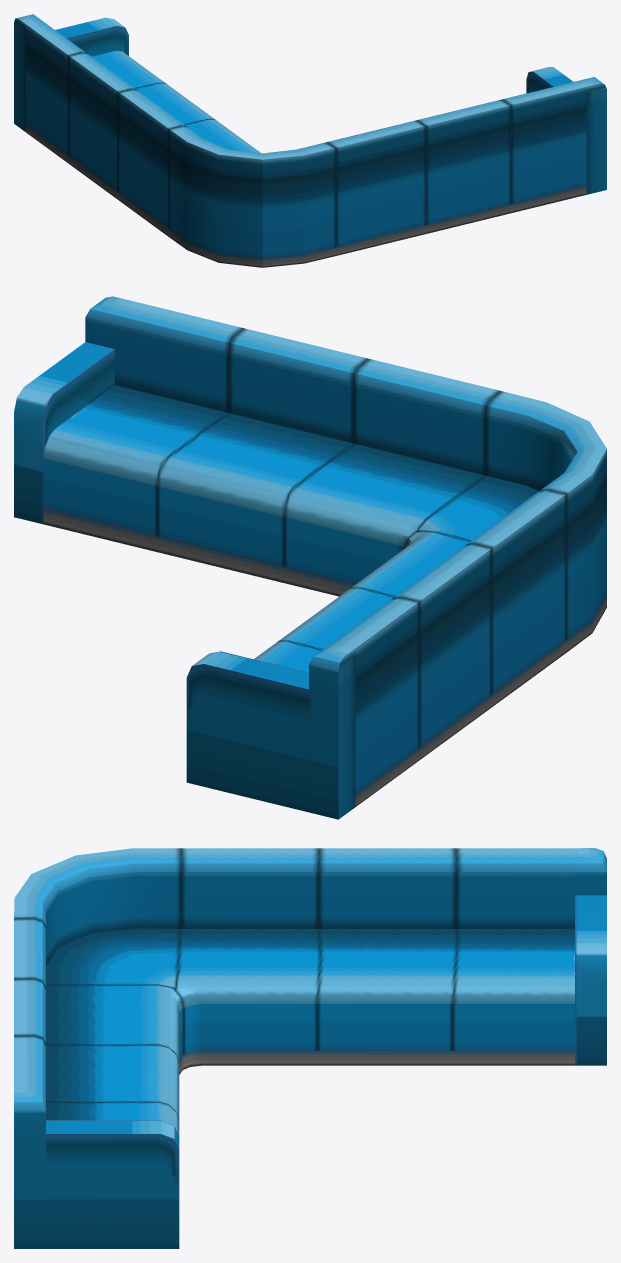
The model's file is Couch.obj.
3 renders of one model, top to bottom at view 1: azimuth 30°, elevation 25°; view 2: azimuth 150°, elevation 25°; view 3: azimuth 270°, elevation 25°, orthographic. The views are drawn at different scales.
Parts seen in each view (by area): view 1: pCube1; view 2: pCube1; view 3: pCube1.
Boxes of the visible parts, left/top/right/bottom form: pCube1: left=14, top=14, right=606, bottom=267; pCube1: left=14, top=296, right=606, bottom=819; pCube1: left=14, top=848, right=606, bottom=1248.
Size of the model in its own units: 4.53 by 1.24 by 4.5.
Materials: 1 (1 with a texture image).
